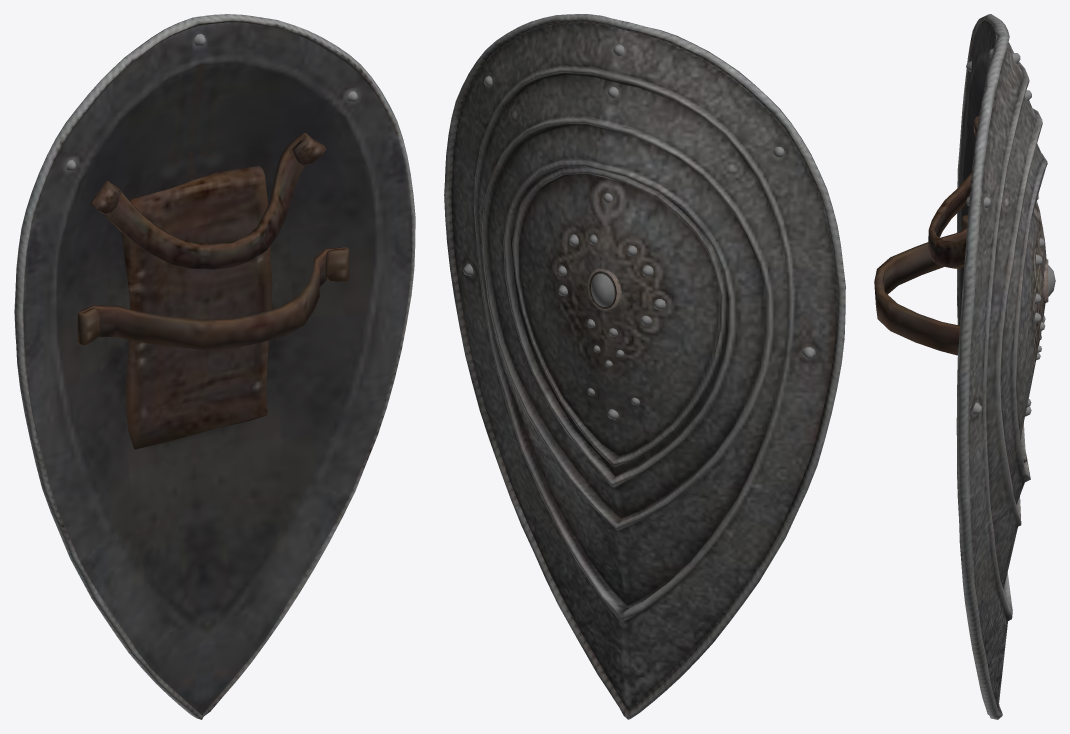
The model's file is weapon-wp_a_2026.glb.
3 views of the same model, side by side, from view 1: azimuth 30°, elevation 25°; view 2: azimuth 150°, elevation 25°; view 3: azimuth 270°, elevation 25° (orthographic). The views are drawn at different scales.
Visible parts, largest first — view 1: wp_a_2026_mesh; view 2: wp_a_2026_mesh; view 3: wp_a_2026_mesh.
Boxes of the visible parts, x1=… form: wp_a_2026_mesh: x1=14, y1=14, x2=415, y2=719; wp_a_2026_mesh: x1=444, y1=14, x2=845, y2=719; wp_a_2026_mesh: x1=874, y1=14, x2=1055, y2=719.
Bounding box in the file's own units: 0.4945 × 0.8253 × 0.1977.
Materials: 2 (2 with a texture image).
